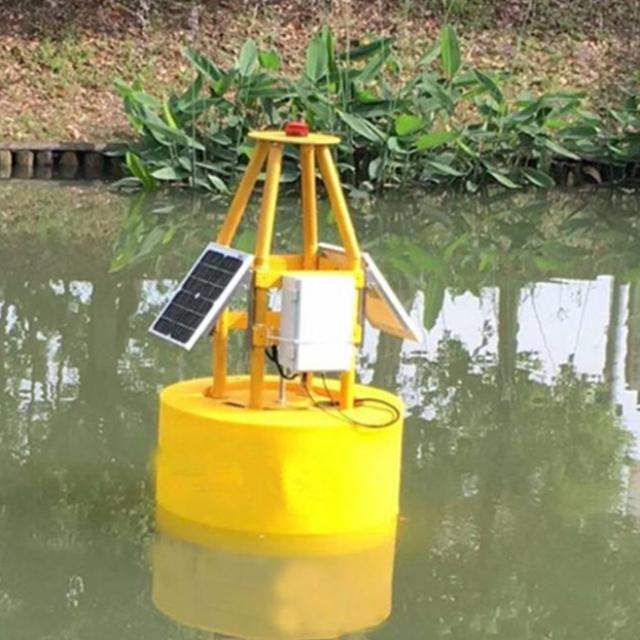buoy: (150, 114, 418, 542)
